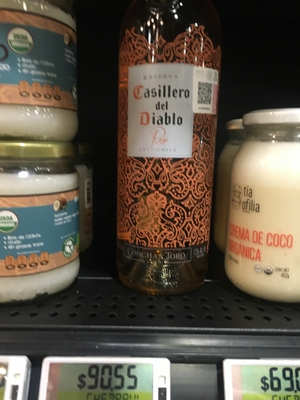casillero del diablo rose: (106, 8, 227, 302)
